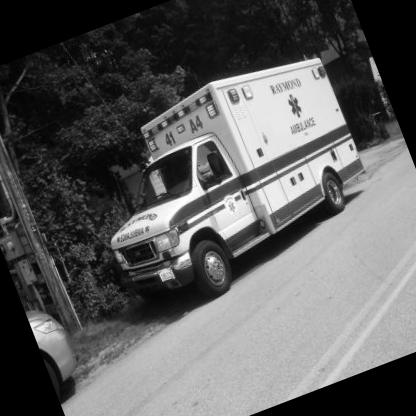ambulance: (43, 23, 416, 330)
